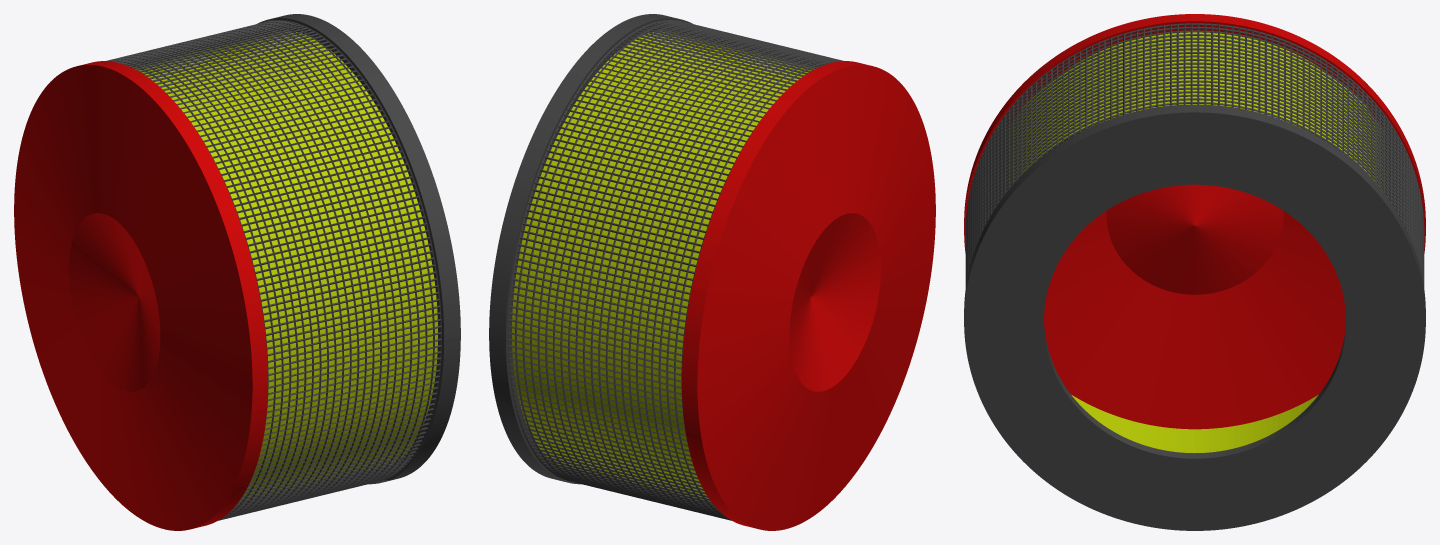
The model's file is filtro.obj.
3 views of the same model, side by side, from view 1: azimuth 30°, elevation 25°; view 2: azimuth 150°, elevation 25°; view 3: azimuth 270°, elevation 25° (orthographic). The views are drawn at different scales.
Parts seen in each view (by area): view 1: G051696_VTLF_2.250_0-79.1VSVRSV_SCM_EUII_IE3_WAT_v1.038; view 2: G051696_VTLF_2.250_0-79.1VSVRSV_SCM_EUII_IE3_WAT_v1.038; view 3: G051696_VTLF_2.250_0-79.1VSVRSV_SCM_EUII_IE3_WAT_v1.038.
Part boxes in pixels (box(x1,y1,x2,y2)): G051696_VTLF_2.250_0-79.1VSVRSV_SCM_EUII_IE3_WAT_v1.038: box(14, 14, 460, 530); G051696_VTLF_2.250_0-79.1VSVRSV_SCM_EUII_IE3_WAT_v1.038: box(489, 14, 935, 530); G051696_VTLF_2.250_0-79.1VSVRSV_SCM_EUII_IE3_WAT_v1.038: box(964, 14, 1425, 530).
Size of the model in its own units: 0.1184 by 0.2156 by 0.2156.
